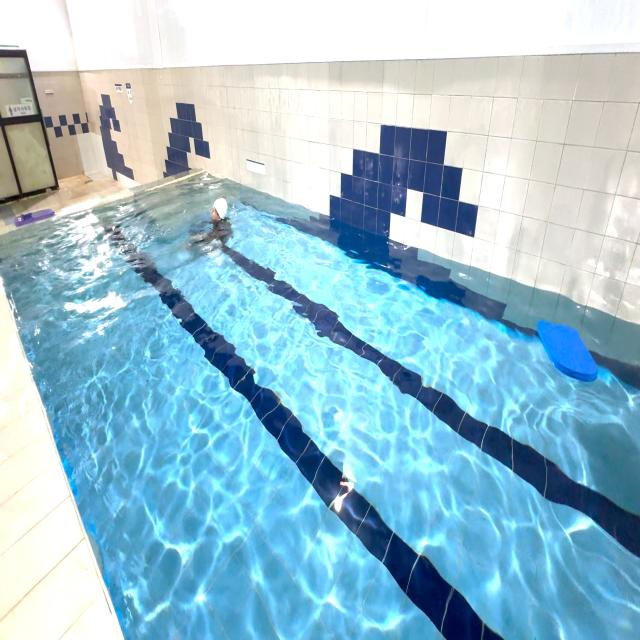Drowning: (187, 193, 235, 254)
